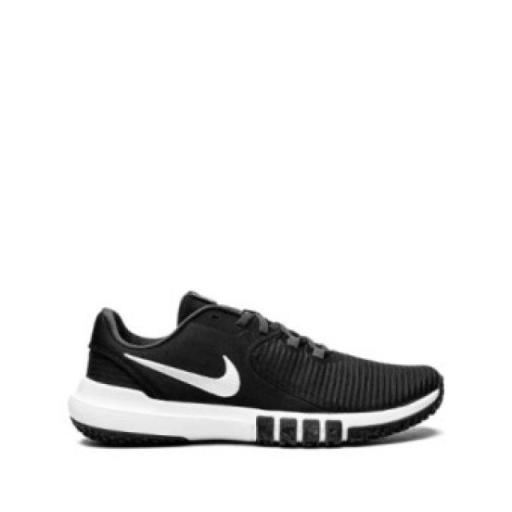Nike: (116, 346, 244, 401)
